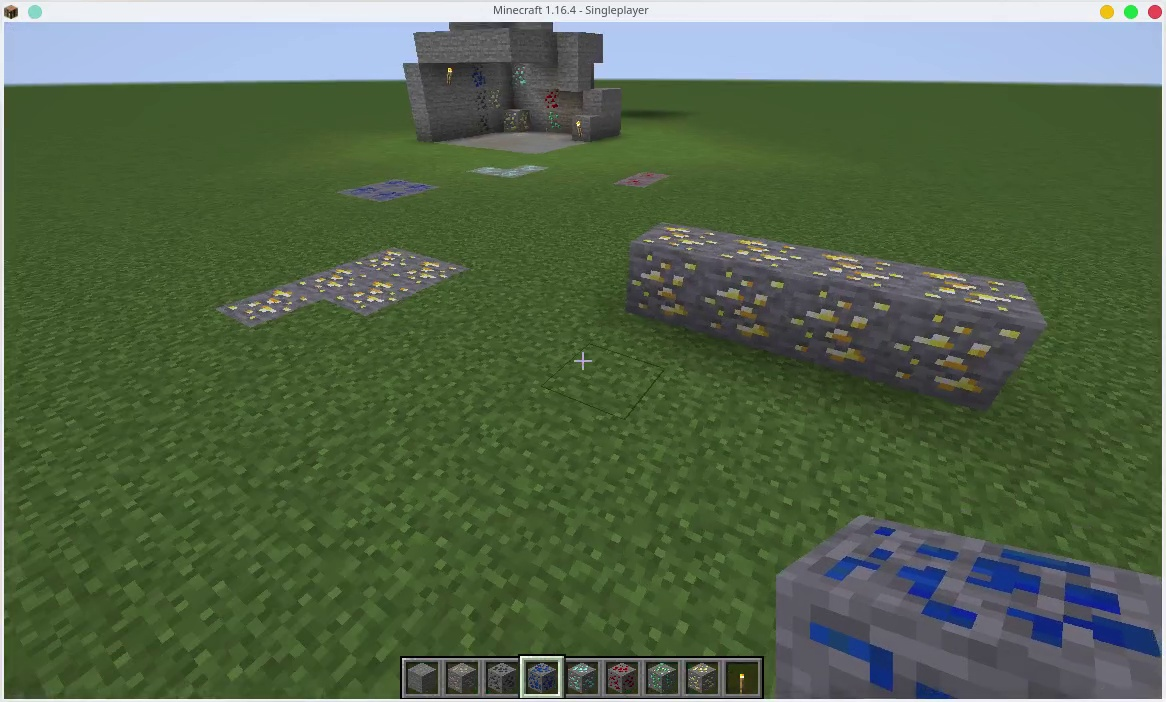gold: (899, 270, 1030, 410), (788, 240, 886, 384), (702, 223, 799, 349), (611, 224, 715, 323), (222, 287, 323, 321), (347, 282, 414, 313), (398, 260, 460, 286), (300, 272, 357, 292), (363, 250, 415, 269), (685, 662, 718, 690), (496, 108, 529, 134), (490, 86, 502, 109)
